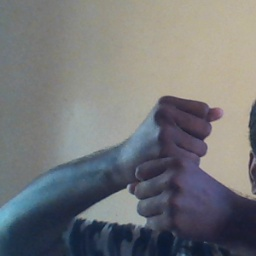G: (122, 90, 225, 236)
